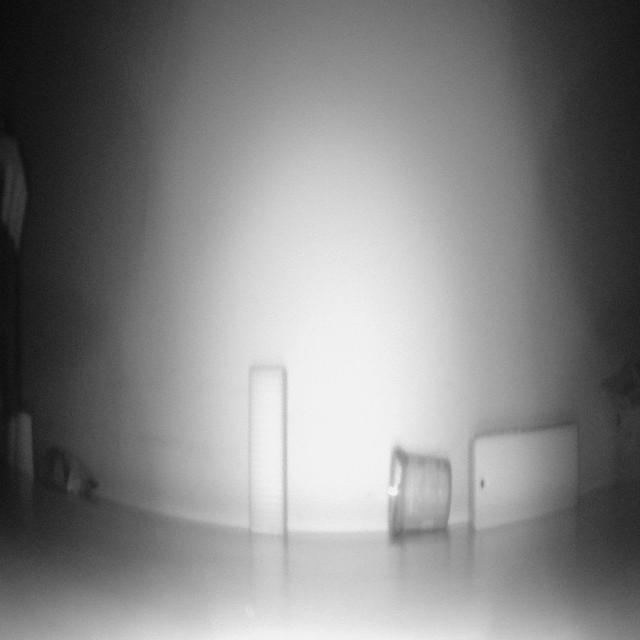targets: (471, 416, 587, 526), (244, 362, 294, 540), (383, 448, 459, 533), (604, 348, 640, 495), (45, 438, 100, 497), (7, 406, 32, 482)
